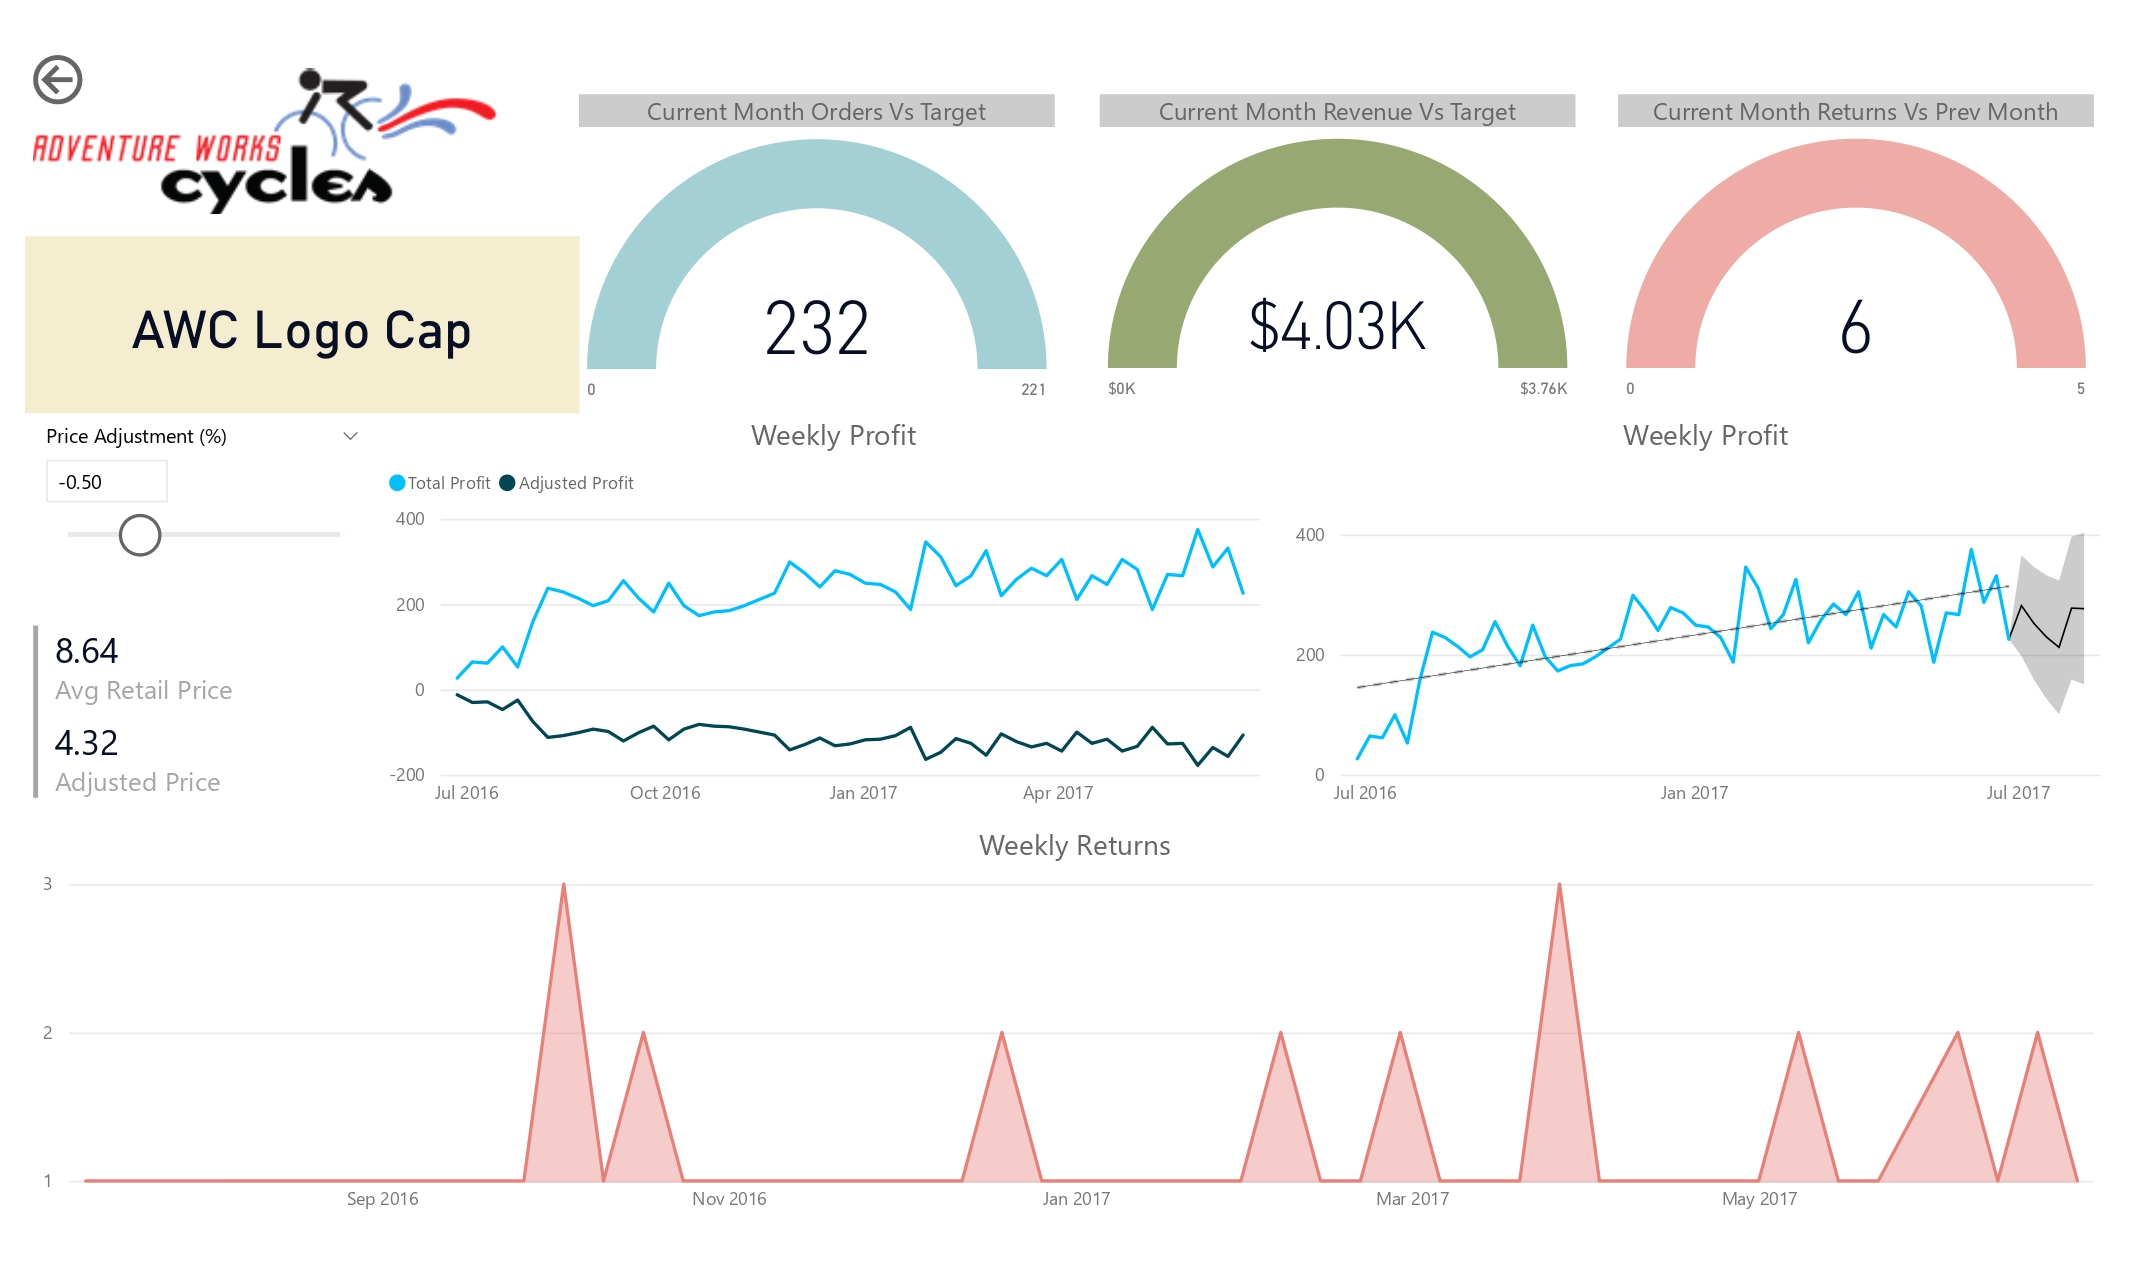

This screenshot's page, from the dashboard's own definition file:
{"tool":"powerbi","page":{"name":"Product Detail","canvas":[1280,720],"ordinal":1},"visuals":[{"type":"image","box":[0,0,296.1,114.9],"z":0},{"type":"lineChart","title":"Weekly Profit","fields":{"Y":["AW_Sales.Total Profit"],"Category":["AW_Calendar_Lookup.Start of Week"]},"box":[768.9,223.7,511.1,248.5],"z":1000},{"type":"stackedAreaChart","title":"Weekly Returns","fields":{"Category":["AW_Calendar_Lookup.Start of Week"],"Y":["AW_Returns.Total Returns"]},"box":[0,472.6,1280,246.5],"z":2000},{"type":"gauge","title":"Current Month Orders Vs Target","fields":{"Y":["AW_Sales.Total Orders"],"MaxValue":["AW_Sales.Orders Target"]},"box":[338.2,29.1,289.7,195.8],"z":3000},{"type":"gauge","title":"Current Month Revenue Vs Target","fields":{"MaxValue":["AW_Sales.Revenue Target"],"Y":["AW_Sales.Total Revenue"]},"box":[654.9,29.1,289.7,195.2],"z":4000},{"type":"gauge","title":"Current Month Returns Vs Prev Month","fields":{"Y":["AW_Returns.Total Returns"],"MaxValue":["AW_Sales.Prev Month Returns"]},"box":[971.3,29.1,289.7,195.2],"z":5000},{"type":"card","fields":{"Values":["Min(AW_Product_Lookup.ProductName)"]},"box":[0,114.9,338.2,108.4],"z":6000},{"type":"actionButton","box":[0,0,100,40],"z":7000},{"type":"slicer","fields":{"Values":["Price Adjustment (%).Price Adjustment (%)"]},"box":[0,223.7,215.9,124.3],"z":8000},{"type":"multiRowCard","fields":{"Values":["AW_Product_Lookup.Avg Retail Price","AW_Product_Lookup.Adjusted Price"]},"box":[0,348,215.9,124.3],"z":9000},{"type":"lineChart","title":"Weekly Profit","fields":{"Y":["AW_Sales.Total Profit","AW_Sales.Adjusted Profit"],"Category":["AW_Calendar_Lookup.Start of Week"]},"box":[215.9,223.7,553,248.5],"z":10000}]}

Visuals, with their boxes on the page's 1280x720 design canvas (x1, y1, x2, y2). These are canvas units, not pixel positions in the 2150x1275 screenshot, which may show the page scaled, cropped or inside an application window:
image: [0,0,296,115]
"Weekly Profit" lineChart: [769,224,1280,472]
"Weekly Returns" stackedAreaChart: [0,473,1280,719]
"Current Month Orders Vs Target" gauge: [338,29,628,225]
"Current Month Revenue Vs Target" gauge: [655,29,945,224]
"Current Month Returns Vs Prev Month" gauge: [971,29,1261,224]
card - Min(AW_Product_Lookup.ProductName): [0,115,338,223]
actionButton: [0,0,100,40]
slicer - Price Adjustment (%).Price Adjustment (%): [0,224,216,348]
multiRowCard - AW_Product_Lookup.Avg Retail Price x AW_Product_Lookup.Adjusted Price: [0,348,216,472]
"Weekly Profit" lineChart: [216,224,769,472]
